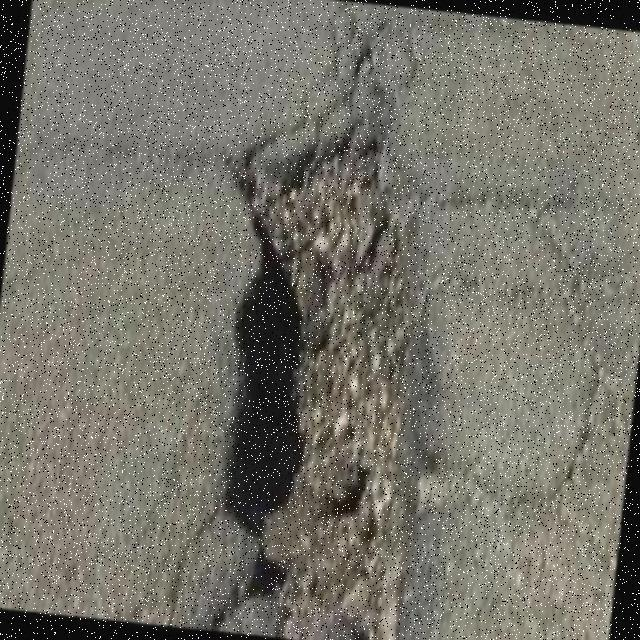Pothole: (223, 44, 442, 640)
